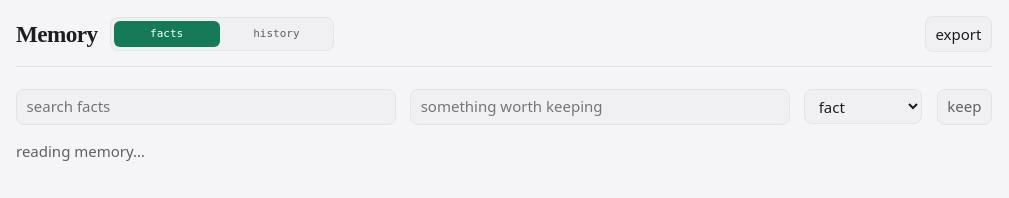
Test: MemoryScreen › switches to history and shows bracketed snippets
Click the tab "history": (276, 34) top-left (224, 21), bottom-right (329, 47)
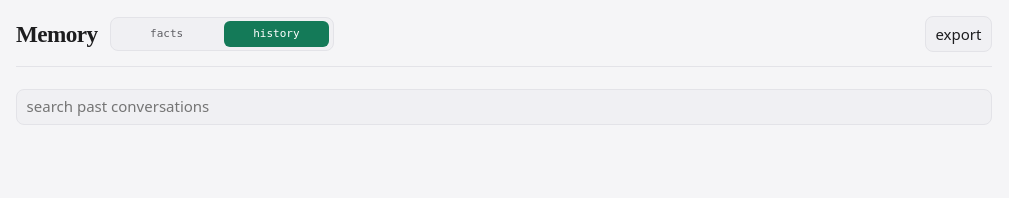
In the field named "search history": (504, 107) top-left (16, 89), bottom-right (992, 125), type "vector"
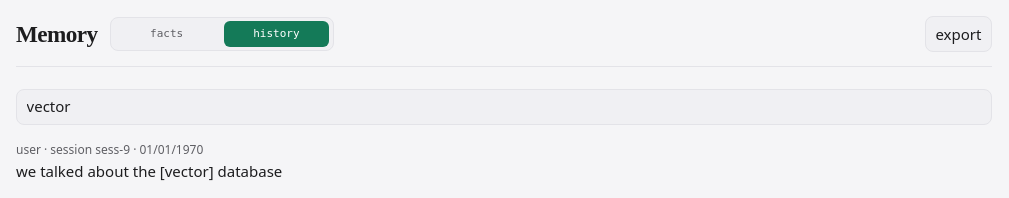
Check: the text "we talked about the [vector] database" is shown, box top-left (16, 161), bottom-right (282, 181)
Check: the text "user · session sess-9 · 01/01/1970" is shown, box top-left (16, 141), bottom-right (203, 158)
